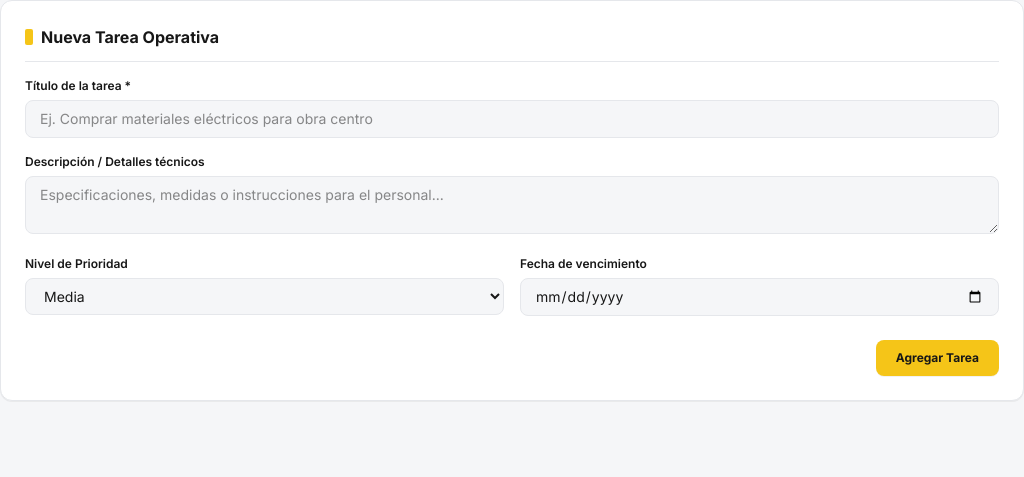
Test: TodoForm Component › muestra error de validación cuando se intenta enviar el título vacío (caso borde)
Click the button "Agregar Tarea" at (937, 358), box [876,340,999,376]
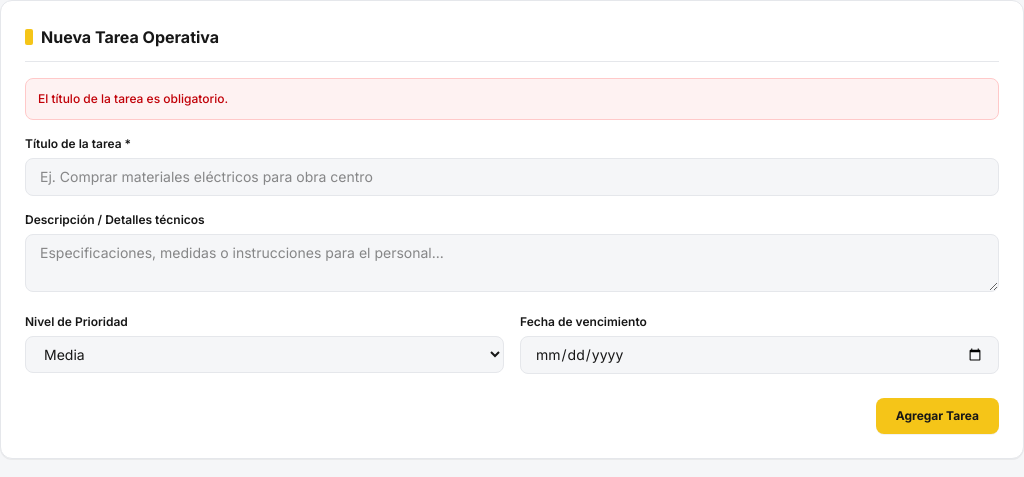
Expected: the message reads "El título de la tarea es obligatorio.", [38,91,228,106]
